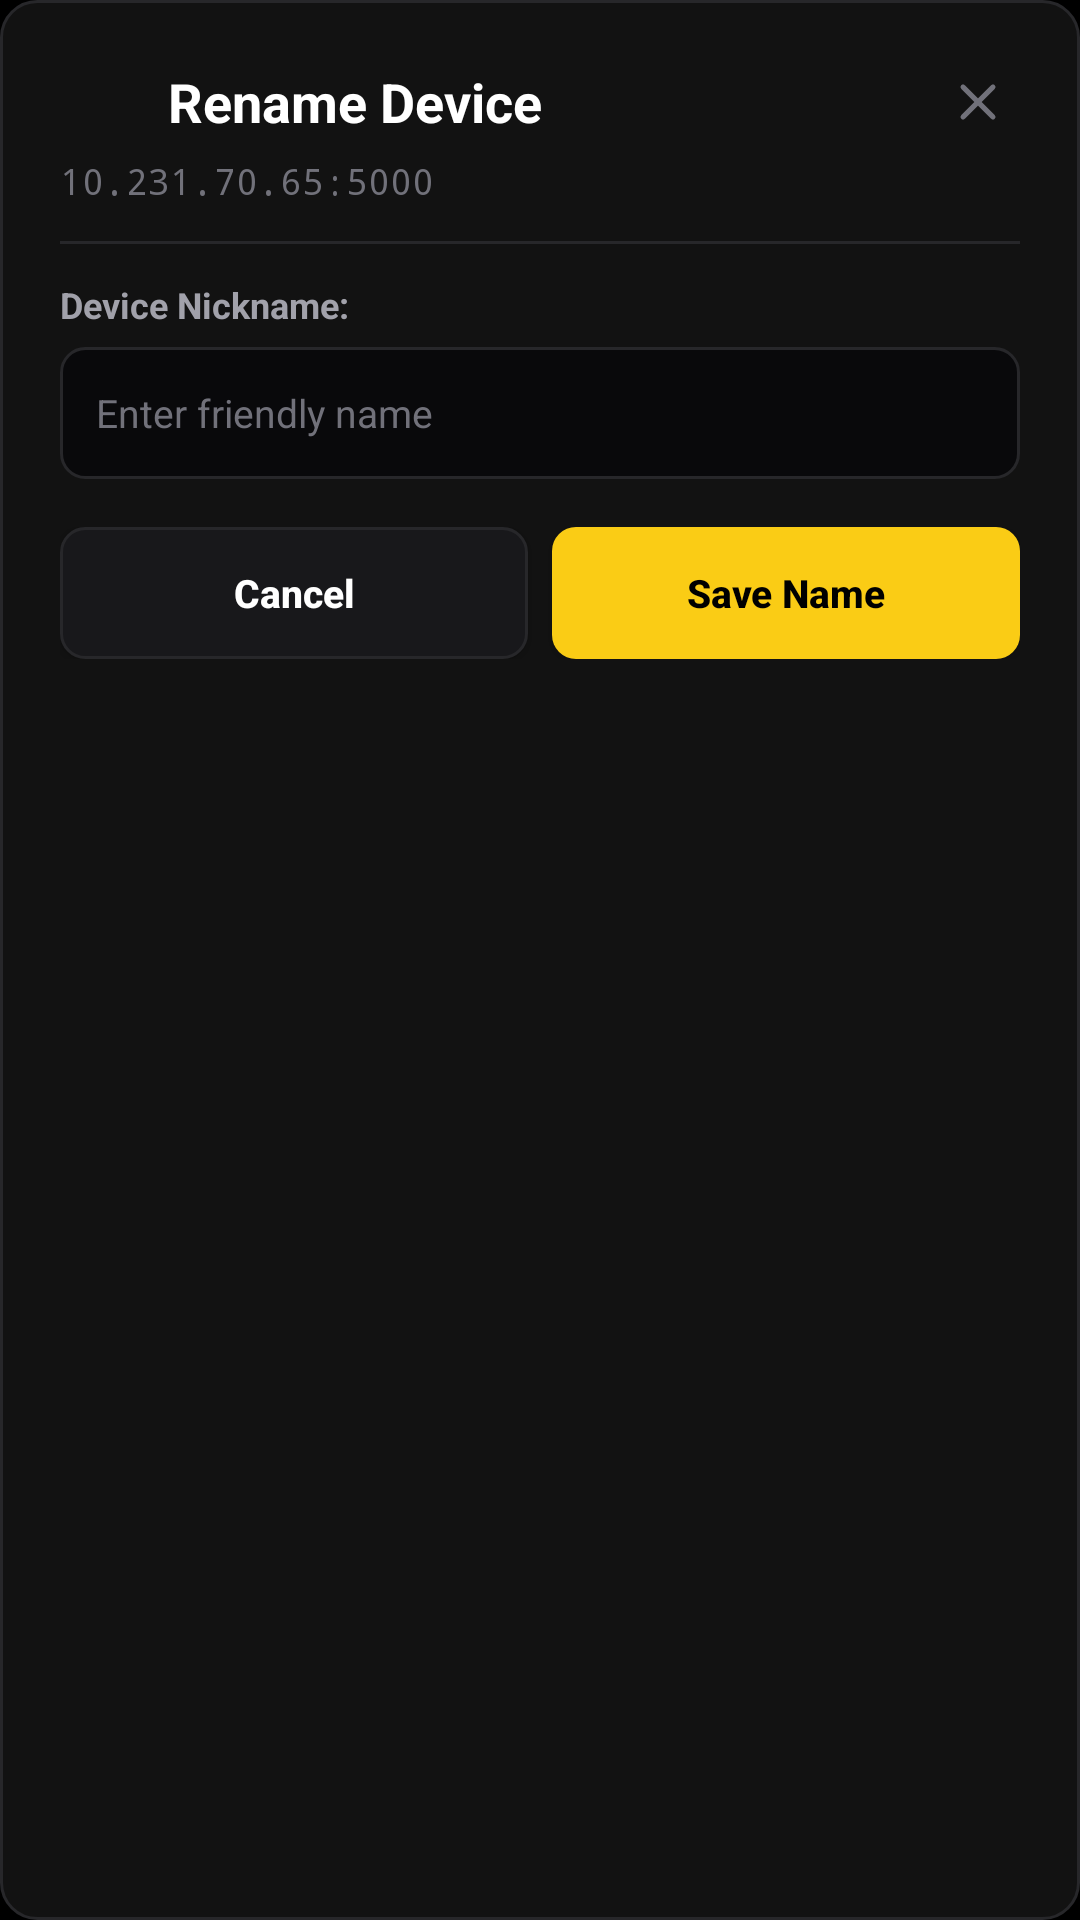

Icon click points for this 1080w x 1920h phone screenshot, format (x=x, y=y):
Close: (x=978, y=102)
